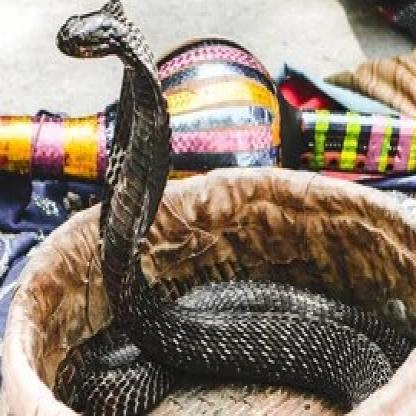Snake: (46, 0, 416, 416)
